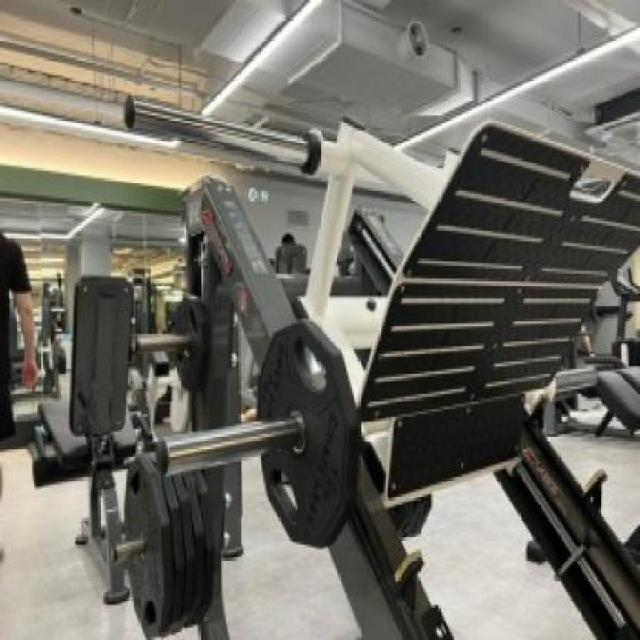leg press: (61, 71, 638, 640)
